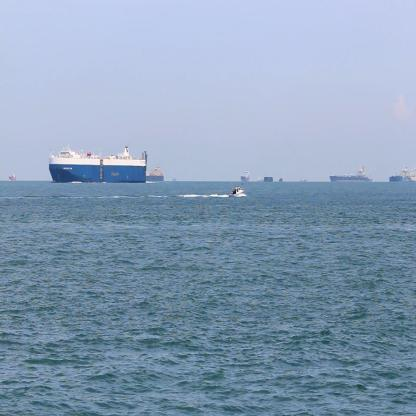Container Ship: (47, 143, 148, 186), (328, 162, 376, 184), (385, 165, 415, 185), (146, 169, 166, 183), (239, 168, 252, 184), (6, 168, 18, 185)
